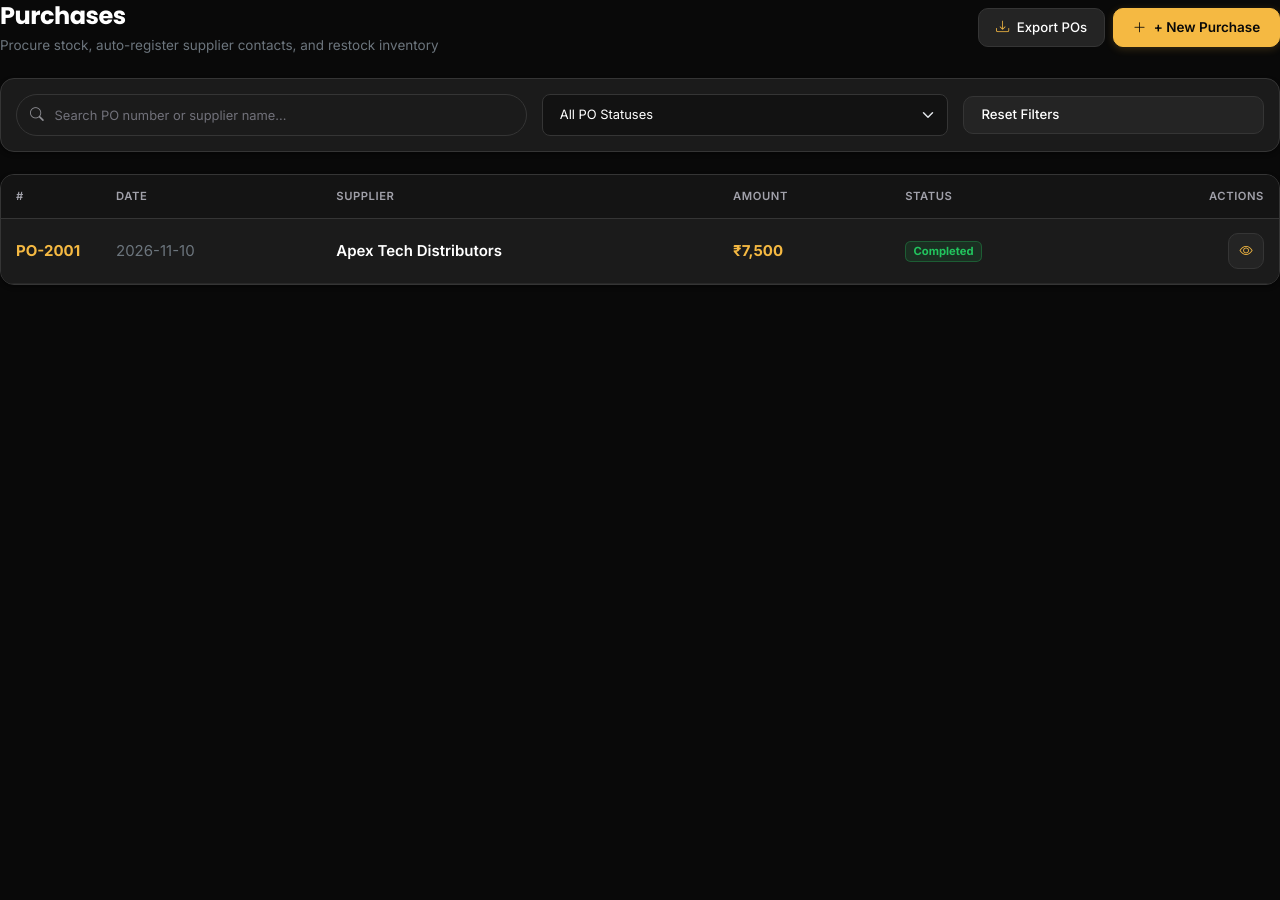
Test: Integration — Purchases & Party Due Tracker › PurchasesPage › opens Create Purchase Order modal
The width and height of the screenshot is (1280, 900).
Click the button "+ New Purchase" at {"x": 1196, "y": 28}, box [1113,8,1279,47]
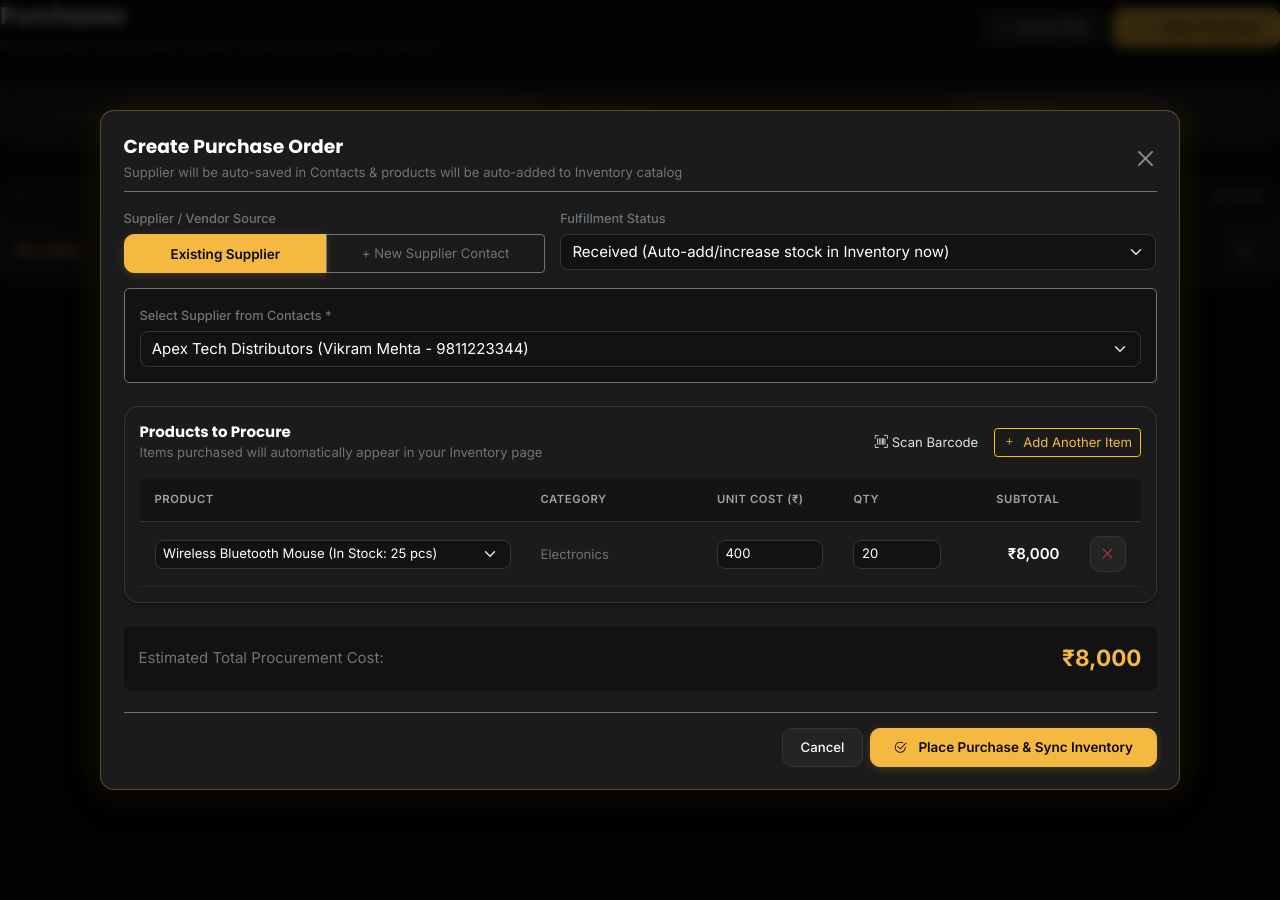
Check: the heading "Create Purchase Order" is shown, box [124,133,343,160]
